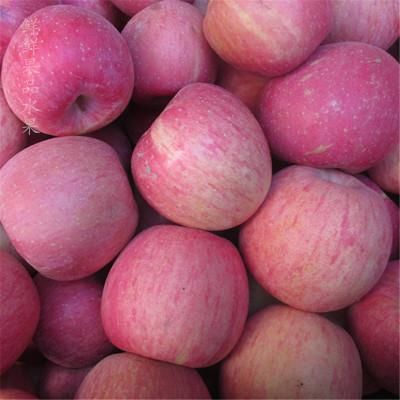apple: (1, 0, 394, 391), (135, 81, 278, 233), (240, 173, 392, 315), (100, 234, 250, 372), (0, 148, 137, 298), (249, 44, 395, 176), (2, 9, 135, 142), (217, 304, 361, 394), (202, 0, 330, 77), (344, 260, 398, 394)
